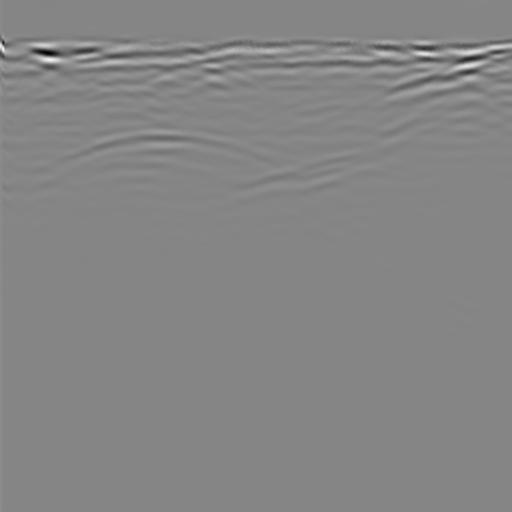hyperbola: (25, 117, 300, 225)
